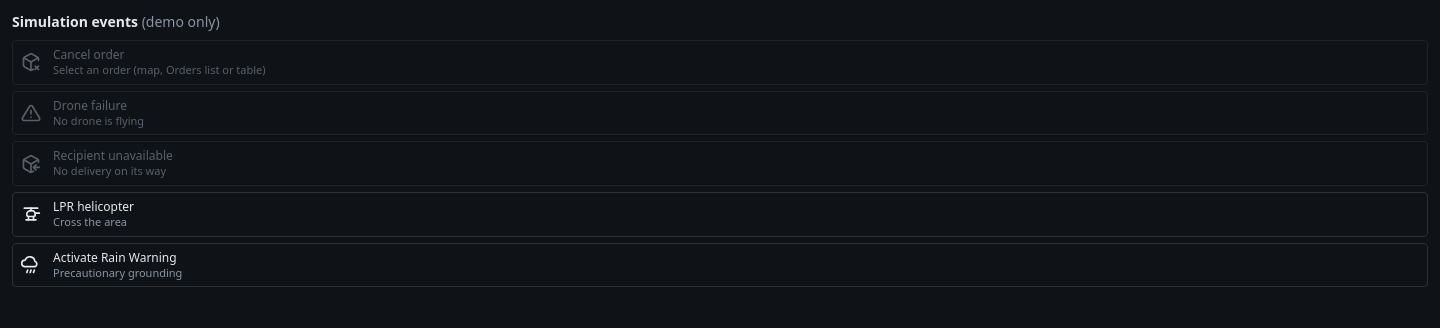
Test: Rain Warning control › shows a failed request and still refreshes
The image size is (1440, 328).
Click the button "Activate Rain Warning Precautionary grounding". click: (115, 257)
box: left=12, top=243, right=1428, bottom=287
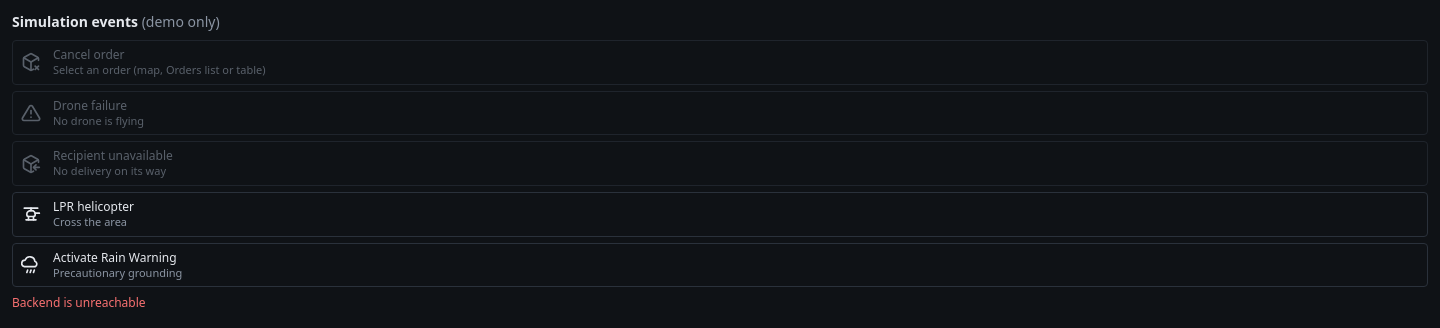
Expected: the message "Backend is unreachable" is shown, left=12, top=294, right=146, bottom=311
